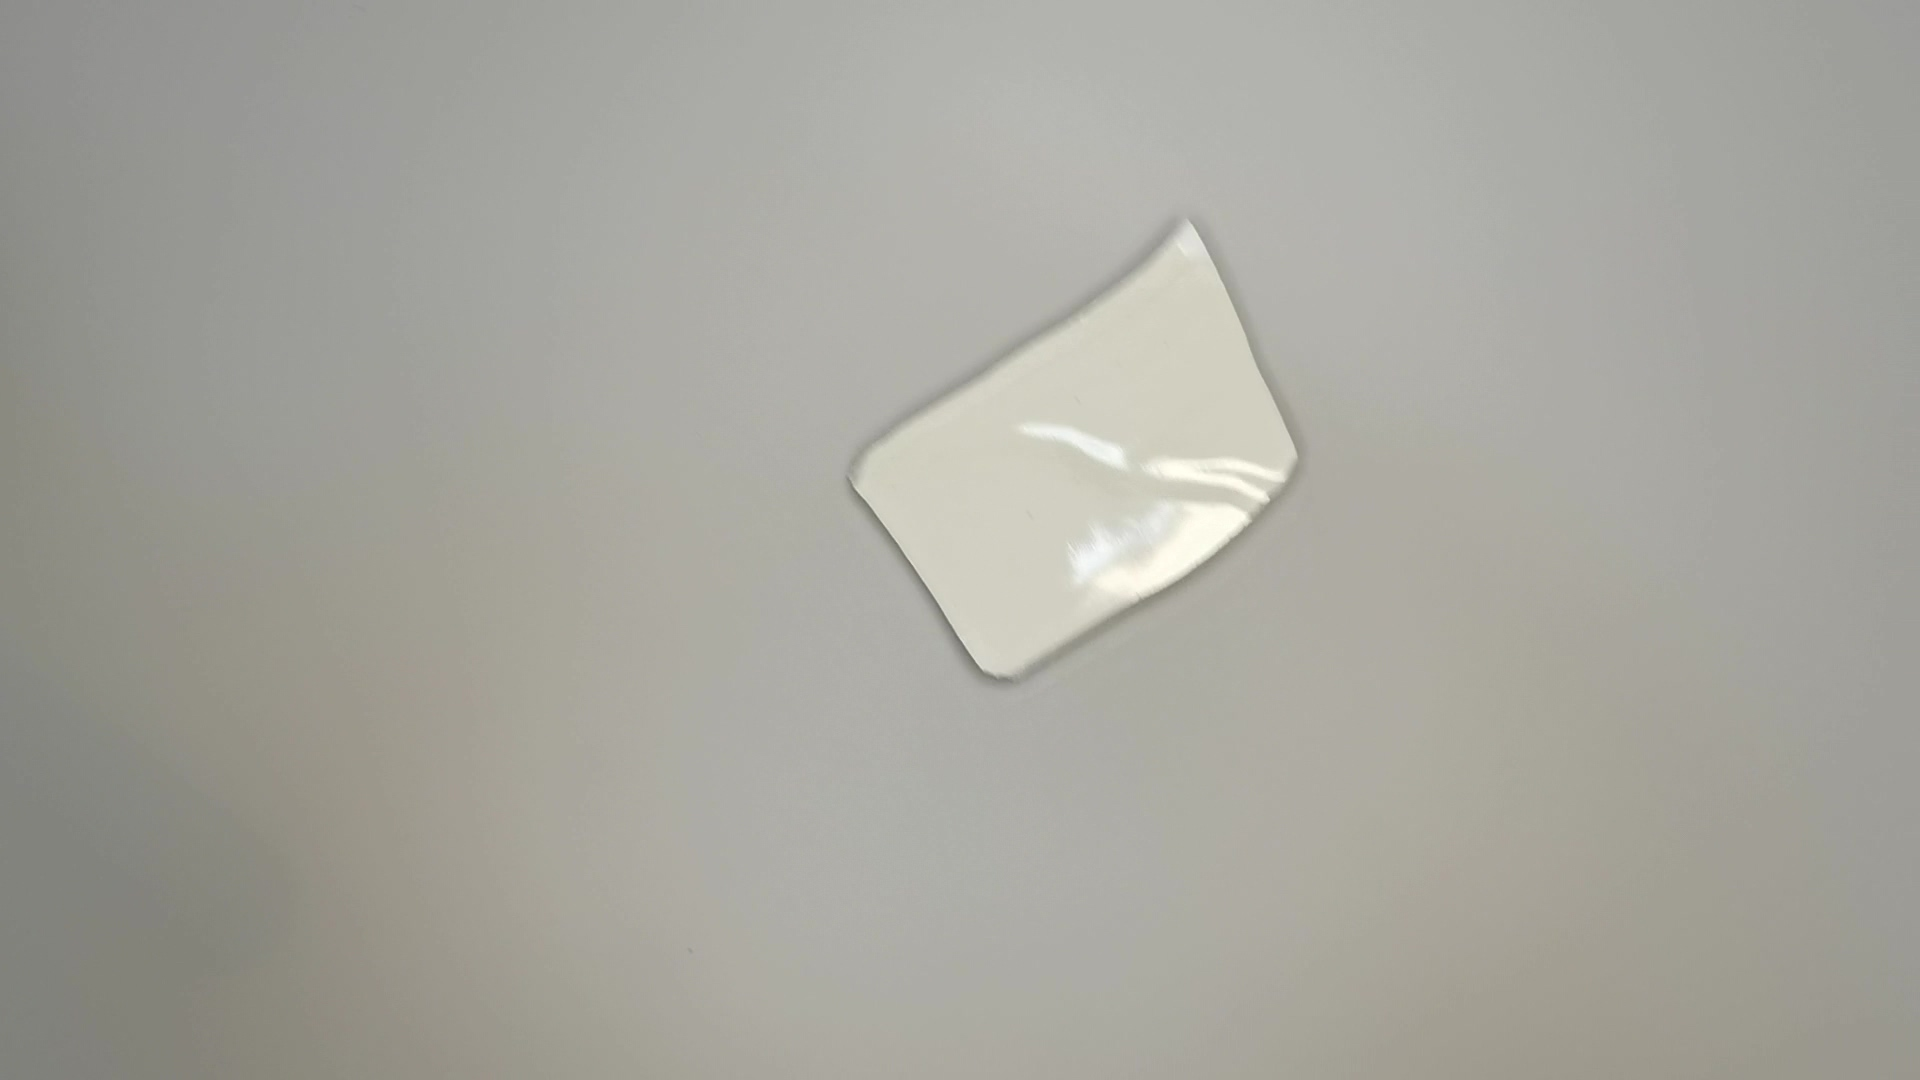ceramic: (855, 208, 1311, 687)
